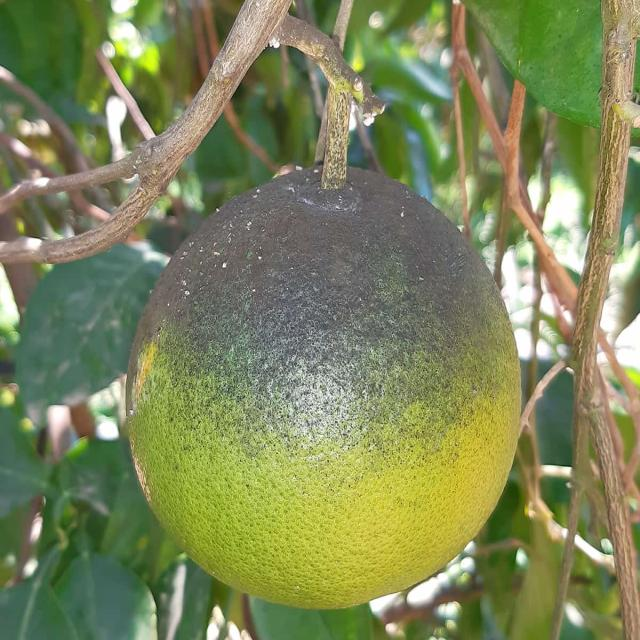Sooty Mold: (122, 160, 524, 611)
